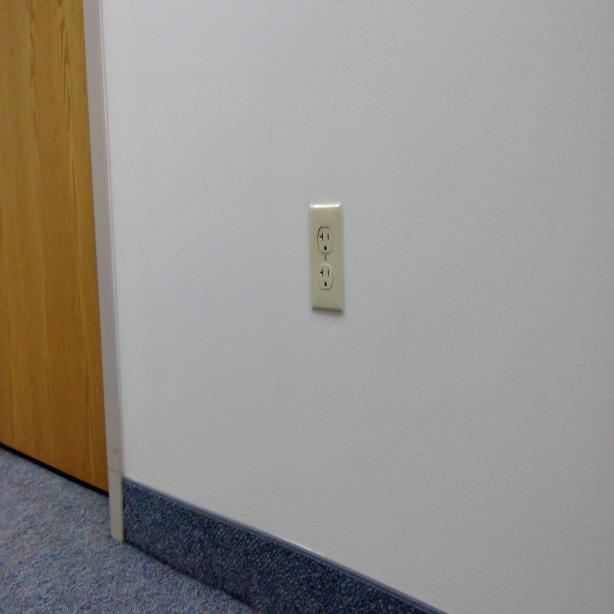typeb: (317, 263, 334, 291), (318, 227, 332, 254)
